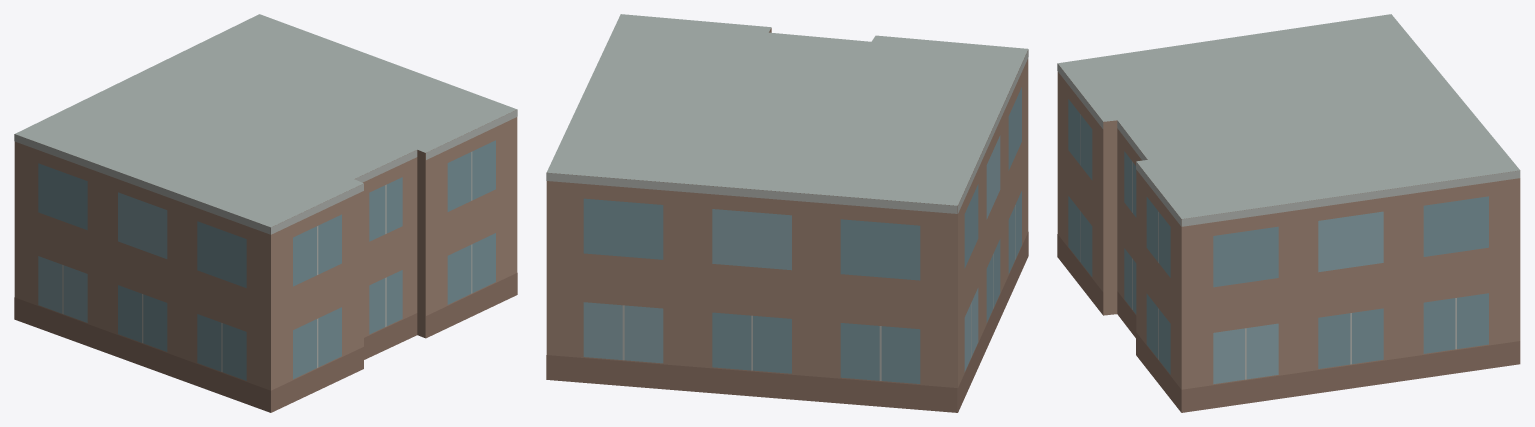
File: survey-upis-32656919.glb
The picture shows the model from 3 angles, left to right: view 1: azimuth 30°, elevation 25°; view 2: azimuth 150°, elevation 25°; view 3: azimuth 270°, elevation 25°; orthographic projection. The views are drawn at different scales.
Visible parts, largest first — view 1: survey-upis-32656919.tmp; view 2: survey-upis-32656919.tmp; view 3: survey-upis-32656919.tmp.
Part boxes in pixels (x1,y1,x2,y2): survey-upis-32656919.tmp: [14, 14, 517, 412]; survey-upis-32656919.tmp: [546, 14, 1028, 412]; survey-upis-32656919.tmp: [1057, 14, 1520, 412].
Bounding box in the file's own units: 13.86 × 6.1 × 13.22.
